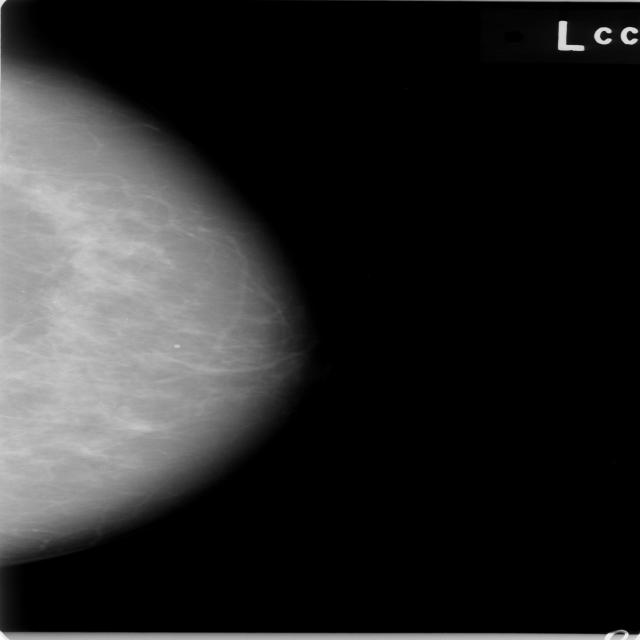normal: (0, 59, 298, 586)
